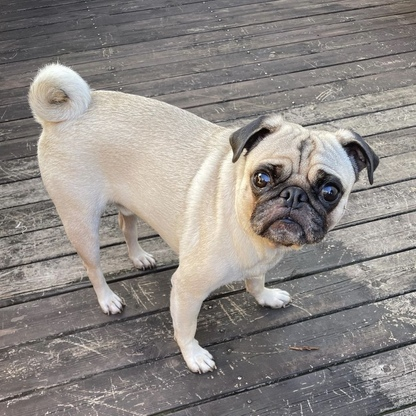Pug: (24, 57, 384, 377)
